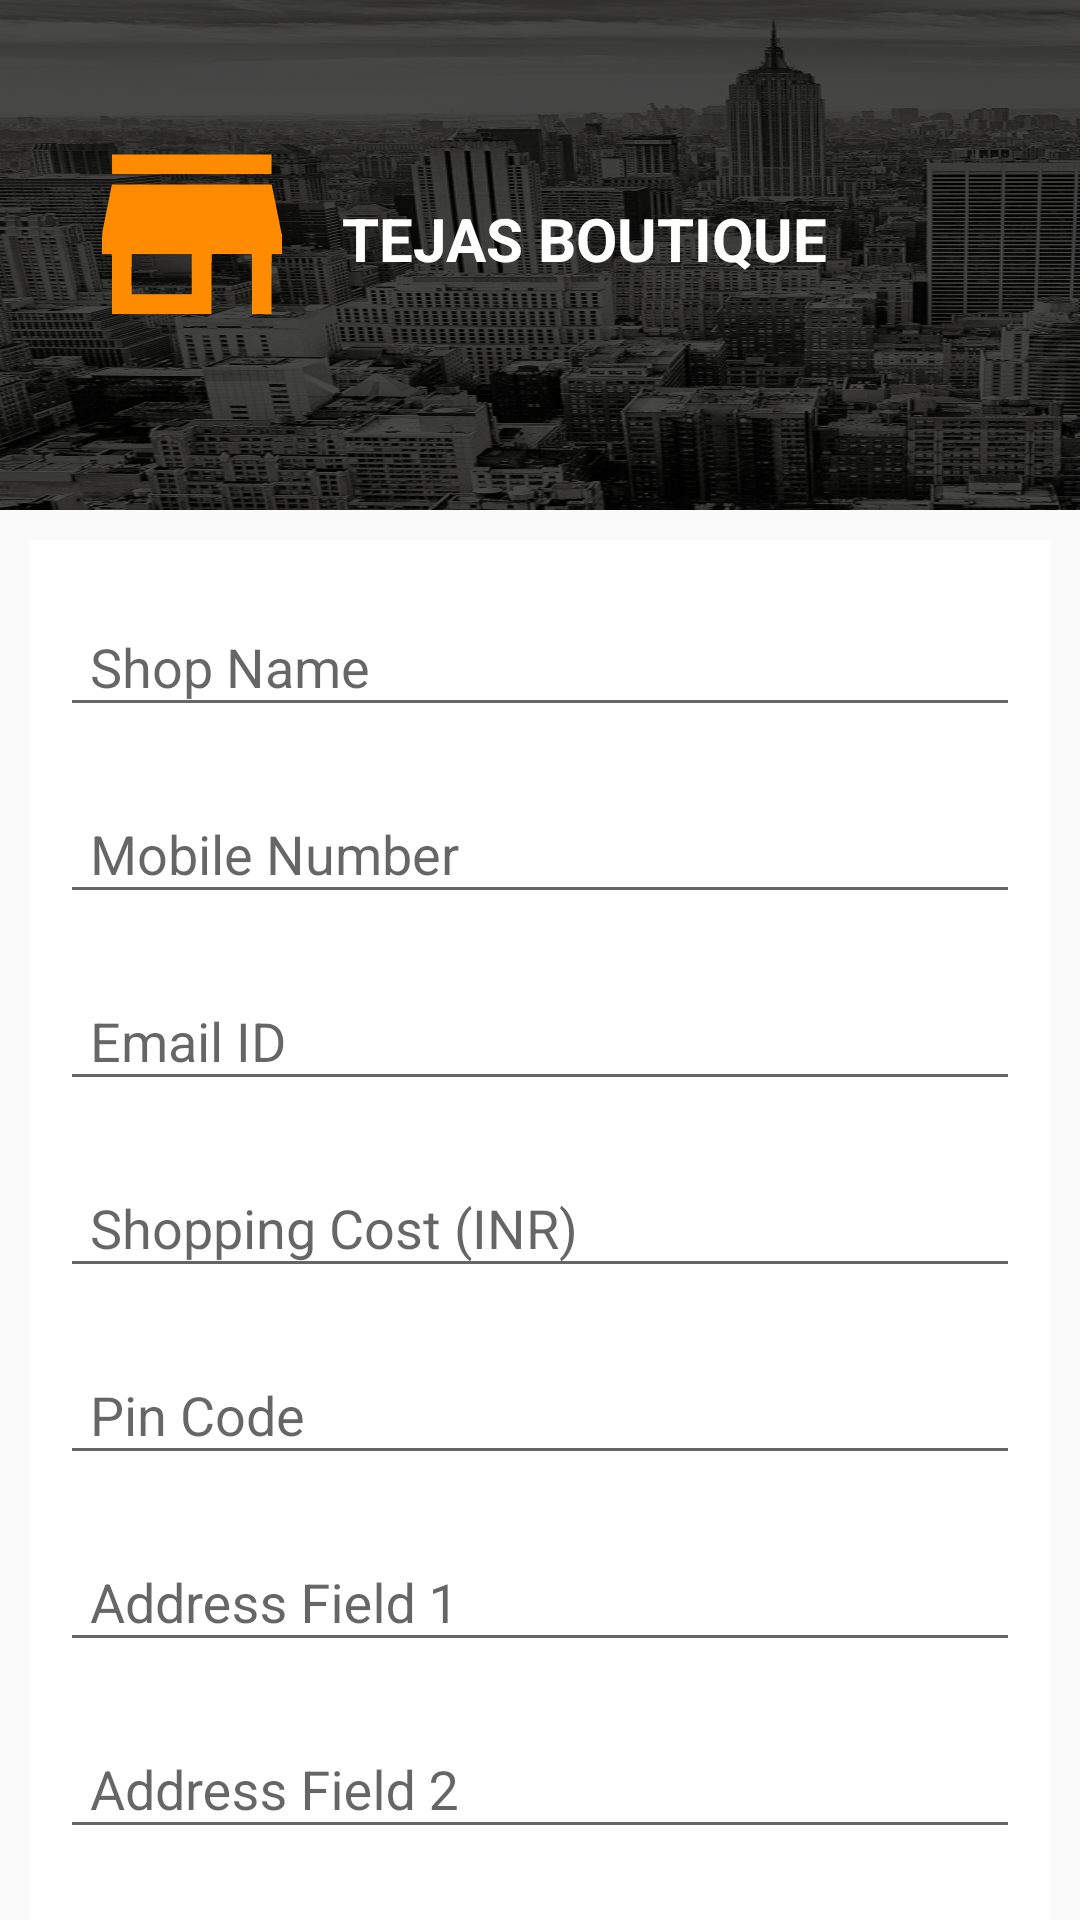

Where icons sit on this 1080px x 1920px app screen, as (x1, y1, x2, y2):
store: (102, 144, 282, 324)
